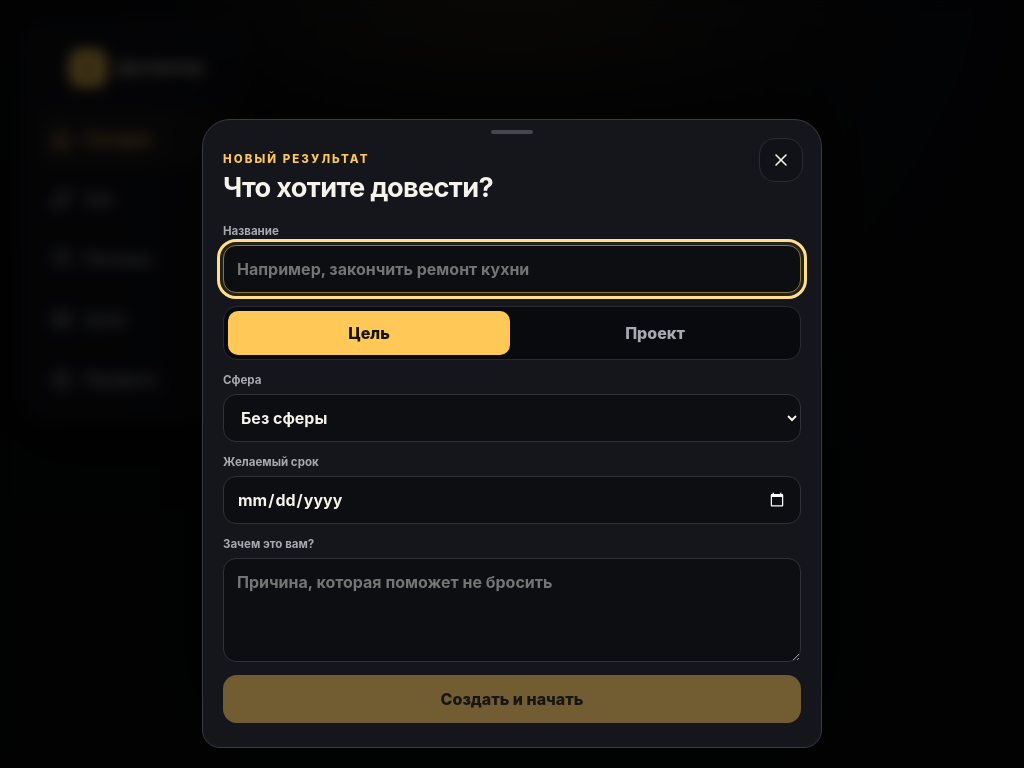
it: mutation form durability feedback › keeps the goal sheet and entered values when persistence is not durable
The image size is (1024, 768).
Type "Новая цель" into the field labelled "Название". click: (512, 269)
box: left=223, top=245, right=801, bottom=293
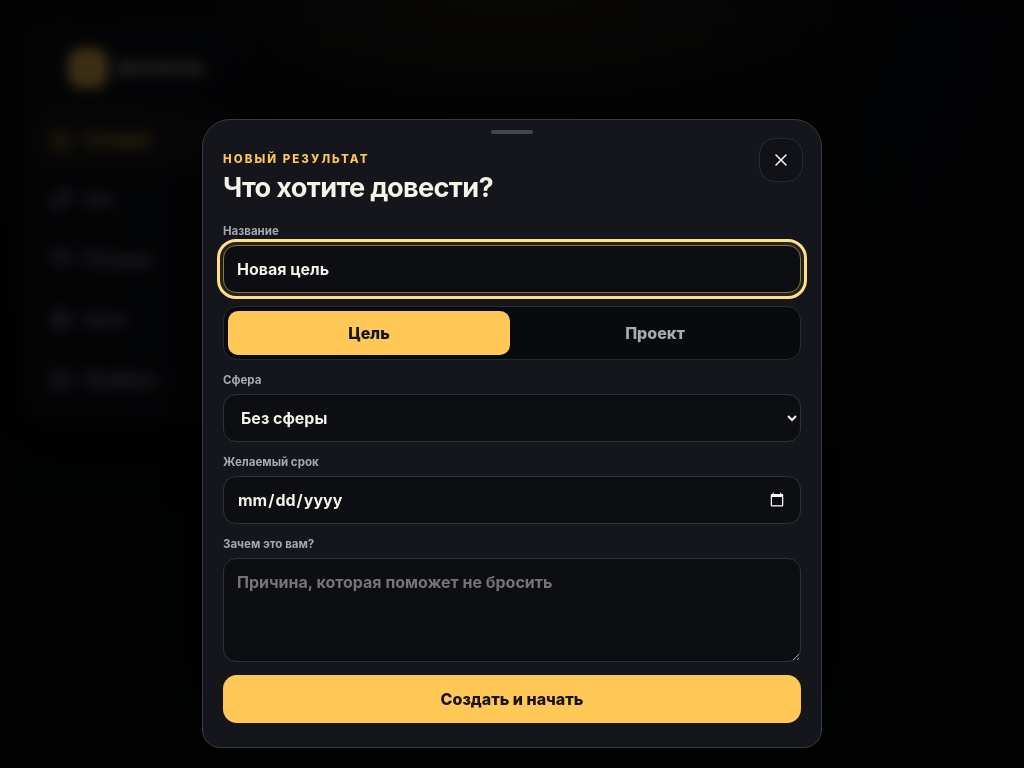
Click the button "Создать и начать". click: (512, 699)
box: left=223, top=675, right=801, bottom=723
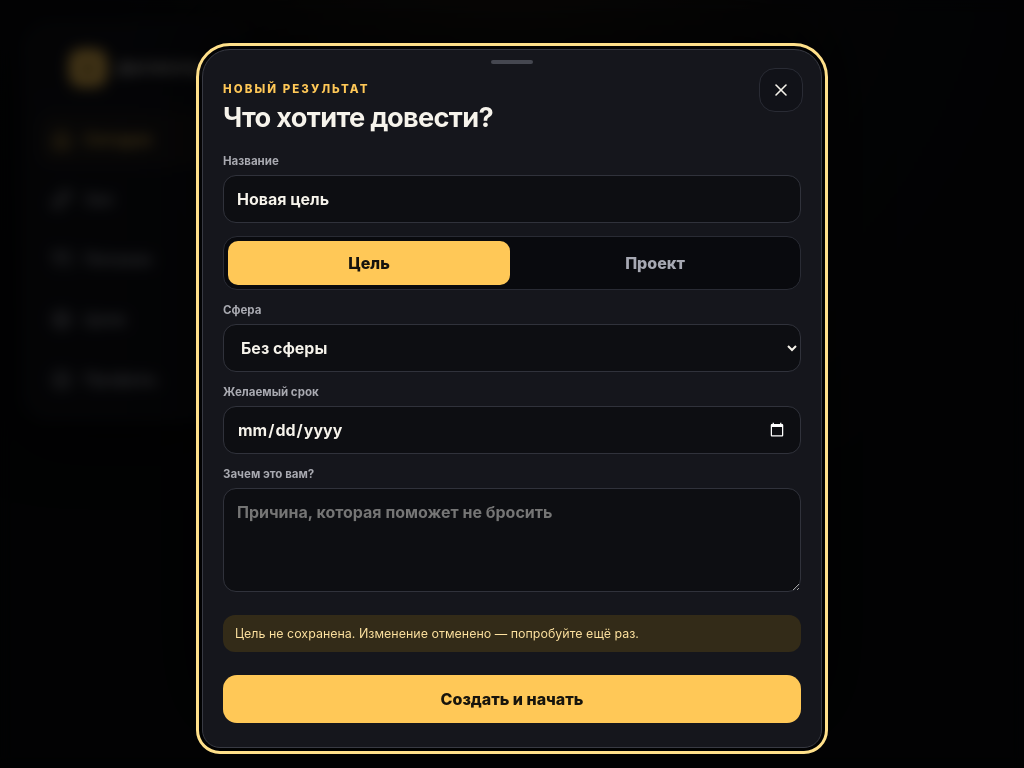
Now the message shows "Изменение отменено", box left=235, top=626, right=639, bottom=640
Now the number of messages is 1, box left=223, top=614, right=801, bottom=652
